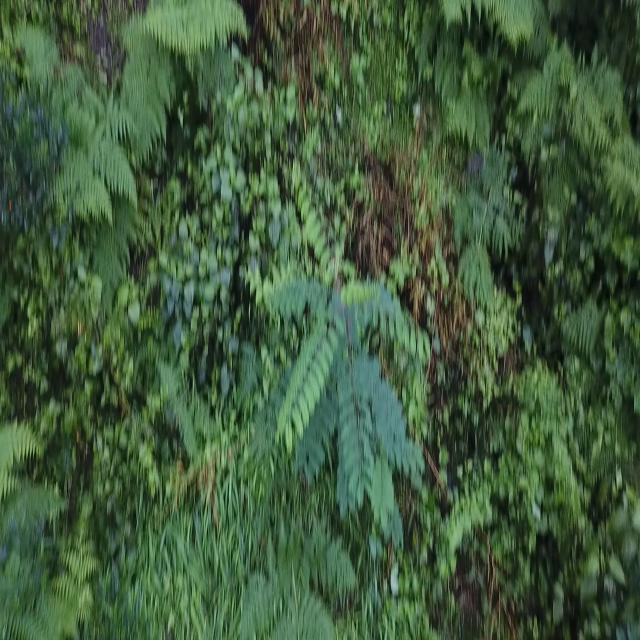Mysore-Thorn-Weed: (264, 194, 422, 526)
